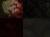eye: (0, 0, 23, 18)
